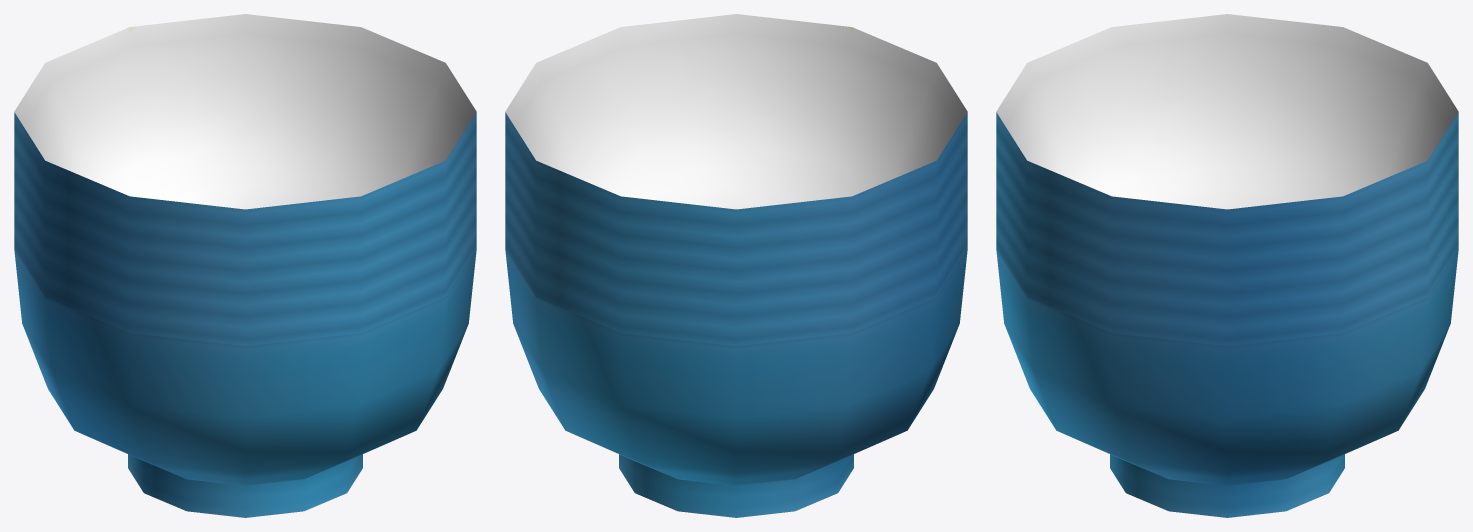
Rendered from jsf_Bowl_05_set.fbx.
3 renders of one model, left to right at view 1: azimuth 30°, elevation 25°; view 2: azimuth 150°, elevation 25°; view 3: azimuth 270°, elevation 25°, orthographic.
Visible parts, largest first — view 1: jsf_Bowl_05_set; view 2: jsf_Bowl_05_set; view 3: jsf_Bowl_05_set.
Part boxes in pixels (left/top/right/bottom): jsf_Bowl_05_set: left=14, top=14, right=476, bottom=517; jsf_Bowl_05_set: left=505, top=14, right=967, bottom=517; jsf_Bowl_05_set: left=996, top=14, right=1458, bottom=517.
Size of the model in its own units: 11.25 by 9.57 by 11.25.
